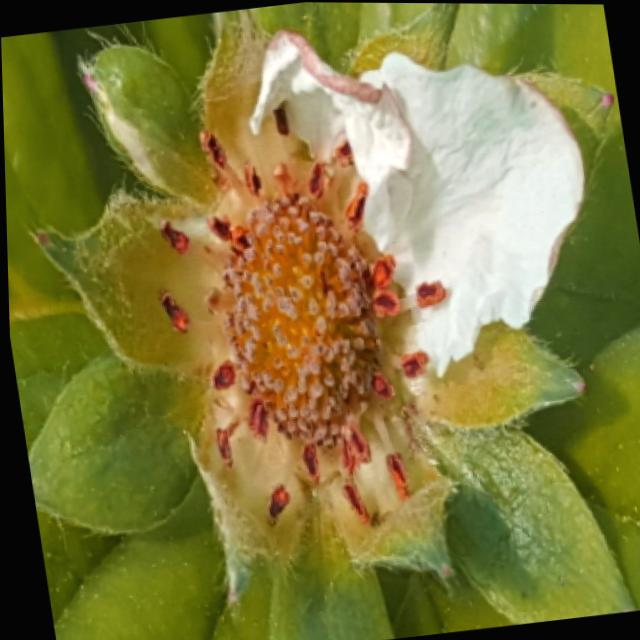Blossom Blight: (142, 97, 449, 533)
